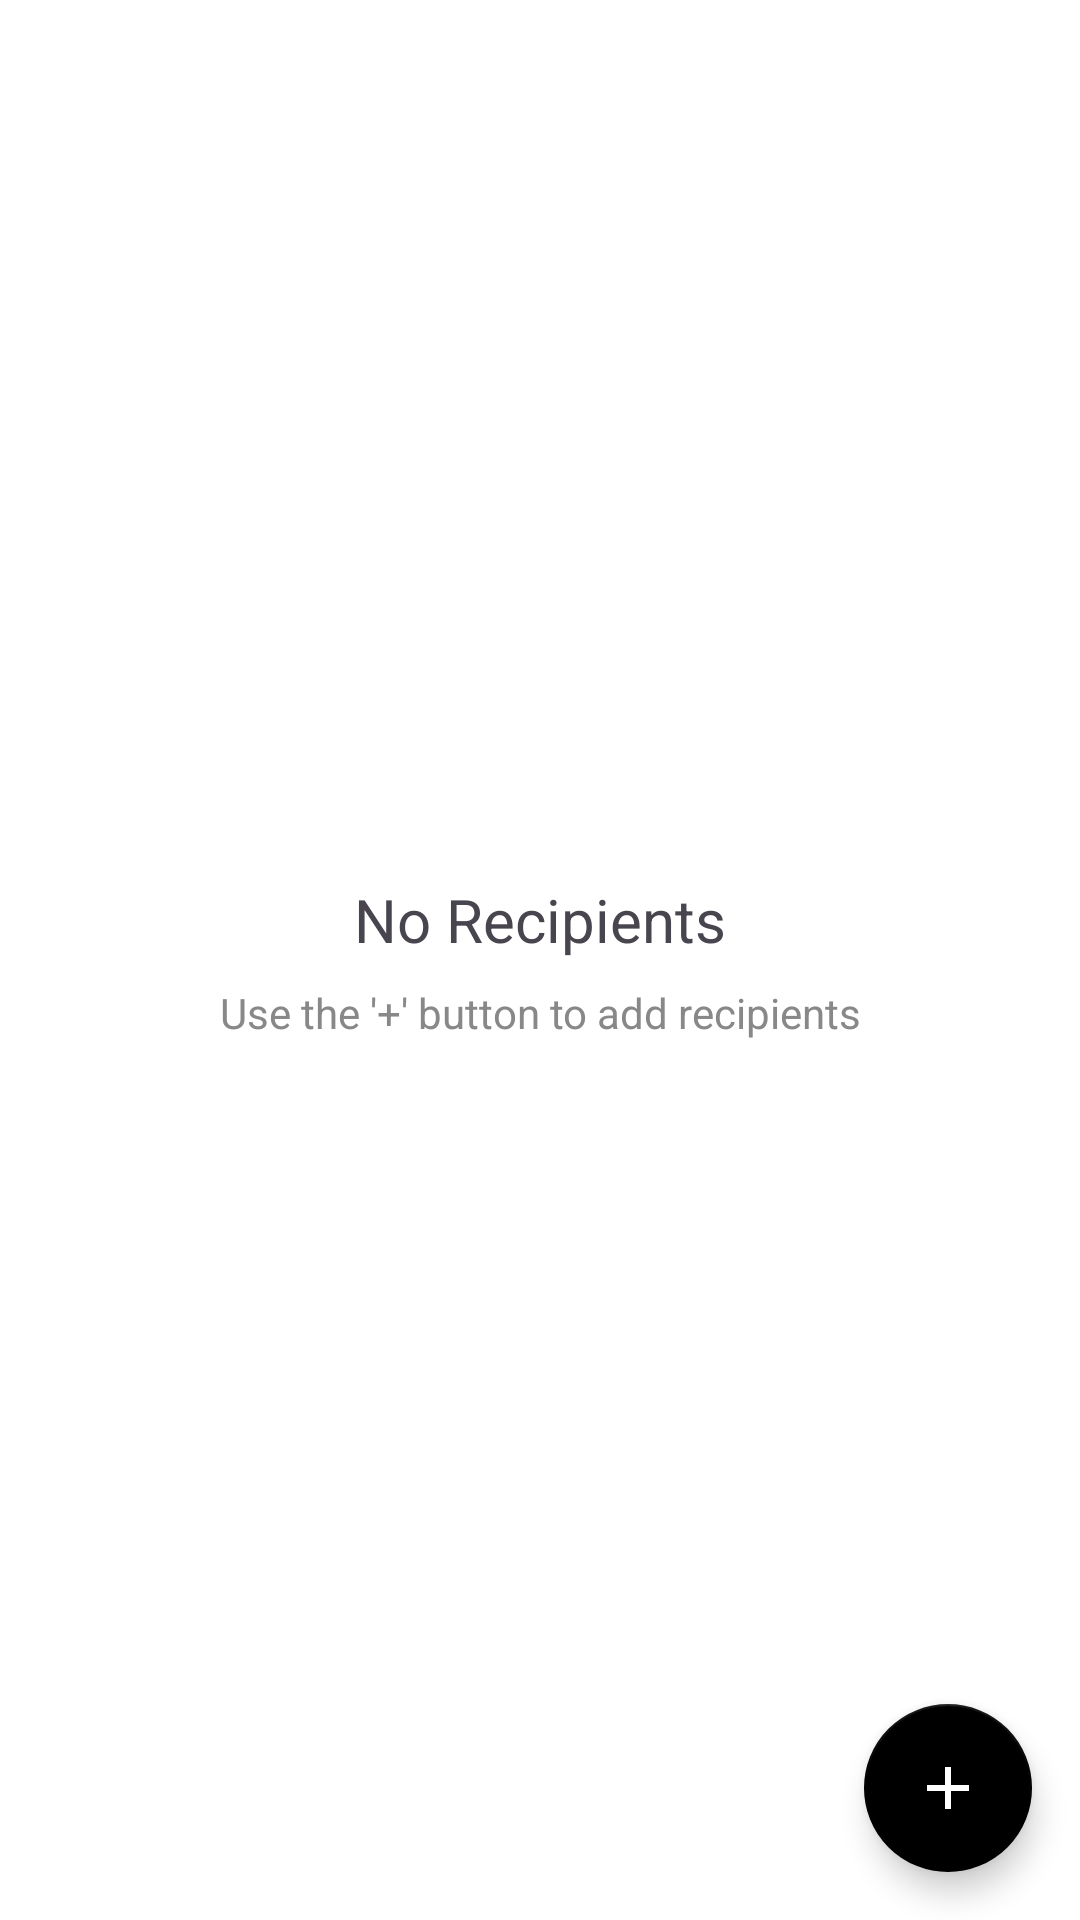

Named icons in this screenshot (1080 x 1920) and their bounding boxes, (x1, y1, x2, y2):
Add recipient: (864, 1704, 1032, 1872)
